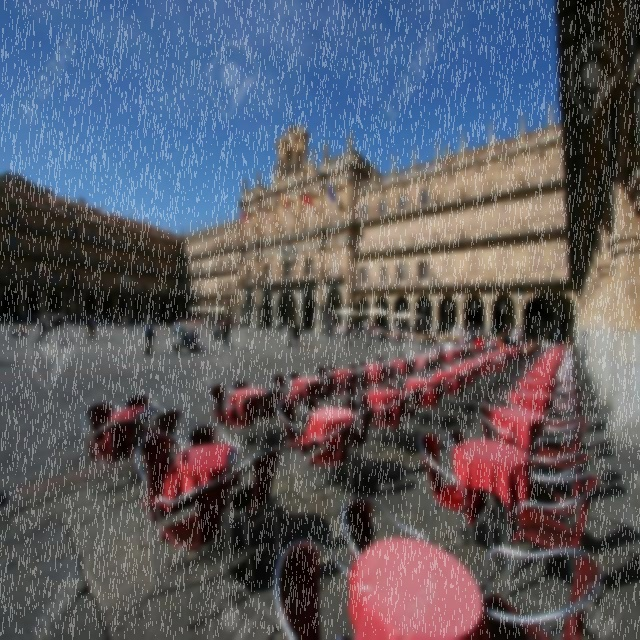pessoa: (240, 213, 346, 264), (374, 323, 417, 343), (423, 336, 441, 379), (446, 320, 489, 338), (180, 313, 233, 327), (491, 324, 513, 354), (276, 119, 307, 139), (459, 337, 492, 354), (322, 318, 343, 342), (144, 318, 156, 356), (36, 314, 48, 344), (348, 318, 364, 340), (222, 316, 232, 351), (188, 333, 206, 352), (451, 334, 462, 362), (523, 334, 534, 358), (364, 320, 372, 350), (512, 324, 522, 348), (85, 314, 94, 339), (44, 314, 52, 342), (344, 320, 352, 348), (292, 321, 300, 348), (540, 333, 552, 351), (442, 336, 454, 353), (562, 336, 574, 352), (327, 314, 334, 341), (187, 326, 197, 344), (128, 314, 136, 334), (90, 314, 96, 339), (180, 326, 188, 344), (214, 321, 221, 340), (174, 320, 182, 336), (242, 177, 248, 196), (347, 130, 352, 152), (17, 324, 25, 337), (256, 170, 261, 190), (323, 140, 328, 160), (431, 328, 438, 342), (211, 326, 218, 340), (311, 314, 316, 332), (363, 318, 368, 336), (171, 318, 176, 335), (52, 314, 58, 328), (534, 332, 540, 346), (105, 312, 110, 328), (10, 327, 18, 337), (57, 316, 63, 328), (166, 314, 170, 331), (276, 316, 280, 332), (146, 315, 151, 326), (423, 328, 429, 336), (372, 320, 375, 334)
